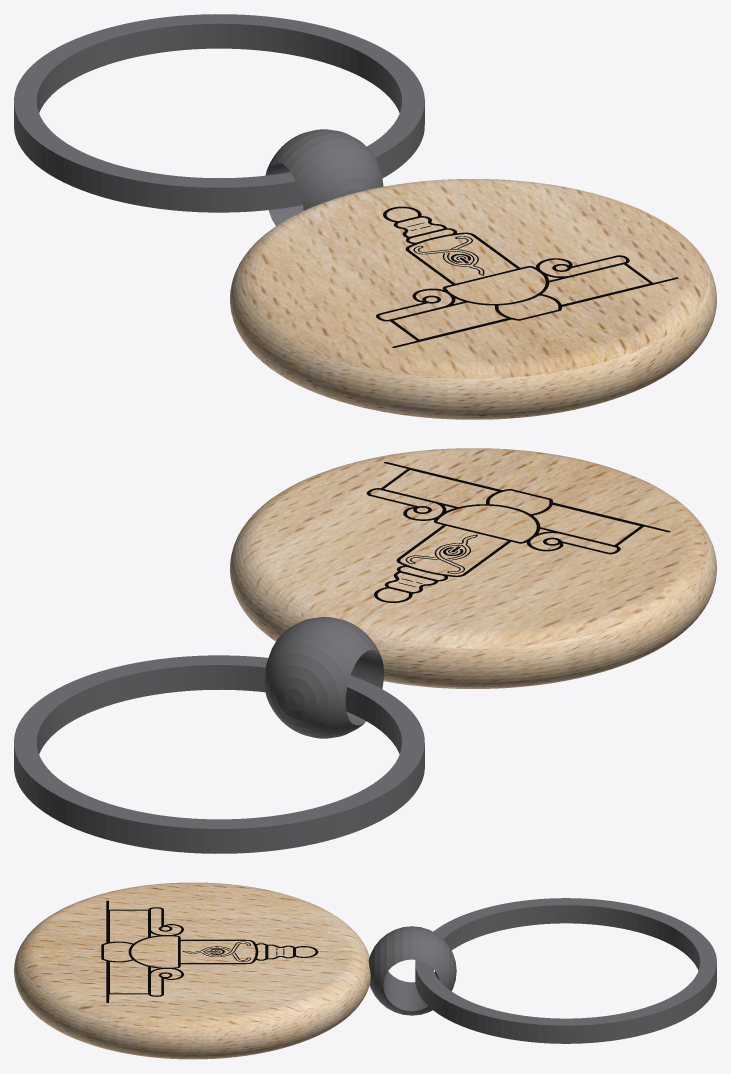
File: pinilla_fuente.glb
3 views of the same model, one above another, from view 1: azimuth 30°, elevation 25°; view 2: azimuth 150°, elevation 25°; view 3: azimuth 270°, elevation 25° (orthographic). The views are drawn at different scales.
Visible parts, largest first — view 1: Cylinder, anilla, Sphere, Curve.093; view 2: Cylinder, anilla, Sphere, Curve.093; view 3: Cylinder, anilla, Sphere, Curve.093.
Boxes of the visible parts, box(x1,y1,x2,y2) form: Cylinder: box(230, 179, 716, 419); anilla: box(14, 14, 424, 212); Sphere: box(265, 129, 383, 225); Curve.093: box(376, 206, 678, 347); Cylinder: box(230, 448, 716, 688); anilla: box(14, 655, 424, 853); Sphere: box(264, 617, 383, 738); Curve.093: box(366, 462, 670, 602); Cylinder: box(14, 882, 370, 1059); anilla: box(415, 898, 716, 1043); Sphere: box(368, 926, 456, 1015); Curve.093: box(101, 900, 318, 1002).
Bounding box in the file's own units: 0.04 × 0.01 × 0.0786.
Materials: 3 (1 with a texture image).
